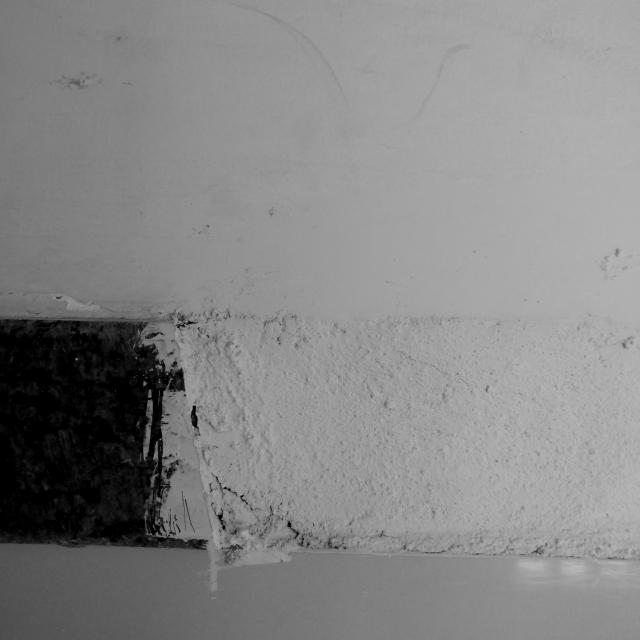rough and patchy surface: (167, 309, 640, 566), (586, 244, 634, 286)
stain marks: (235, 3, 354, 122), (395, 31, 493, 135), (33, 46, 128, 114)
